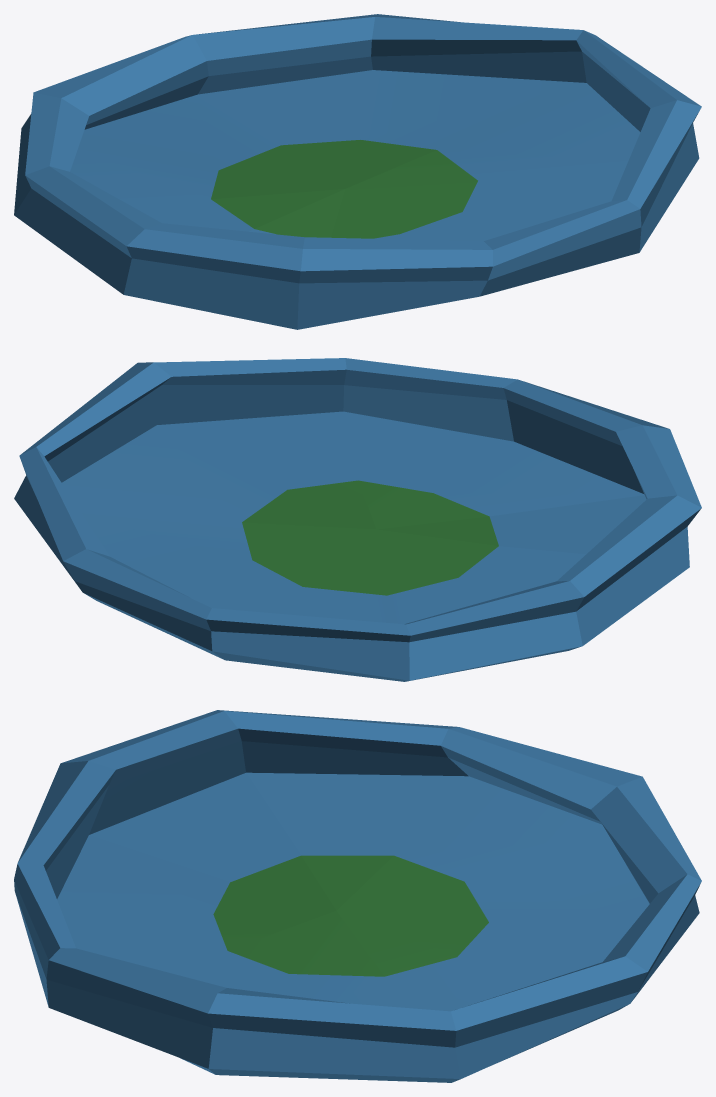
The model's file is apocalypse_pool-inflatable-drained.fbx.
The picture shows the model from 3 angles, top to bottom: view 1: azimuth 30°, elevation 25°; view 2: azimuth 150°, elevation 25°; view 3: azimuth 270°, elevation 25°; orthographic projection. The views are drawn at different scales.
Visible parts, largest first — view 1: apocalypse_pool_inflatable_drained; view 2: apocalypse_pool_inflatable_drained; view 3: apocalypse_pool_inflatable_drained.
Boxes of the visible parts, left/top/right/bottom form: apocalypse_pool_inflatable_drained: left=14, top=14, right=701, bottom=329; apocalypse_pool_inflatable_drained: left=14, top=358, right=701, bottom=681; apocalypse_pool_inflatable_drained: left=14, top=710, right=701, bottom=1082.
Bounding box in the file's own units: 200 × 25.1 × 186.
